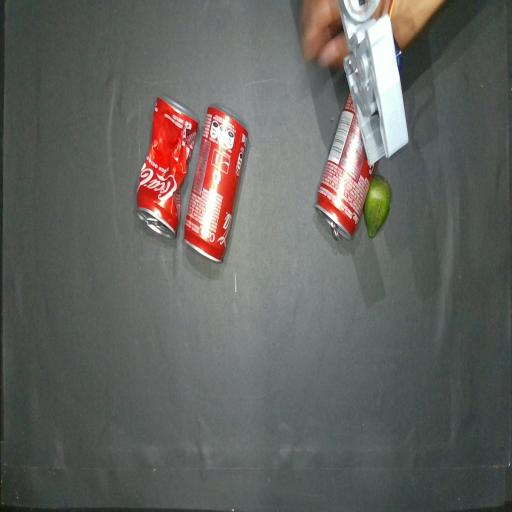higo: (364, 175, 391, 238)
lata: (184, 105, 248, 262), (315, 96, 375, 238)
lata_defectuoso: (137, 98, 198, 237)
